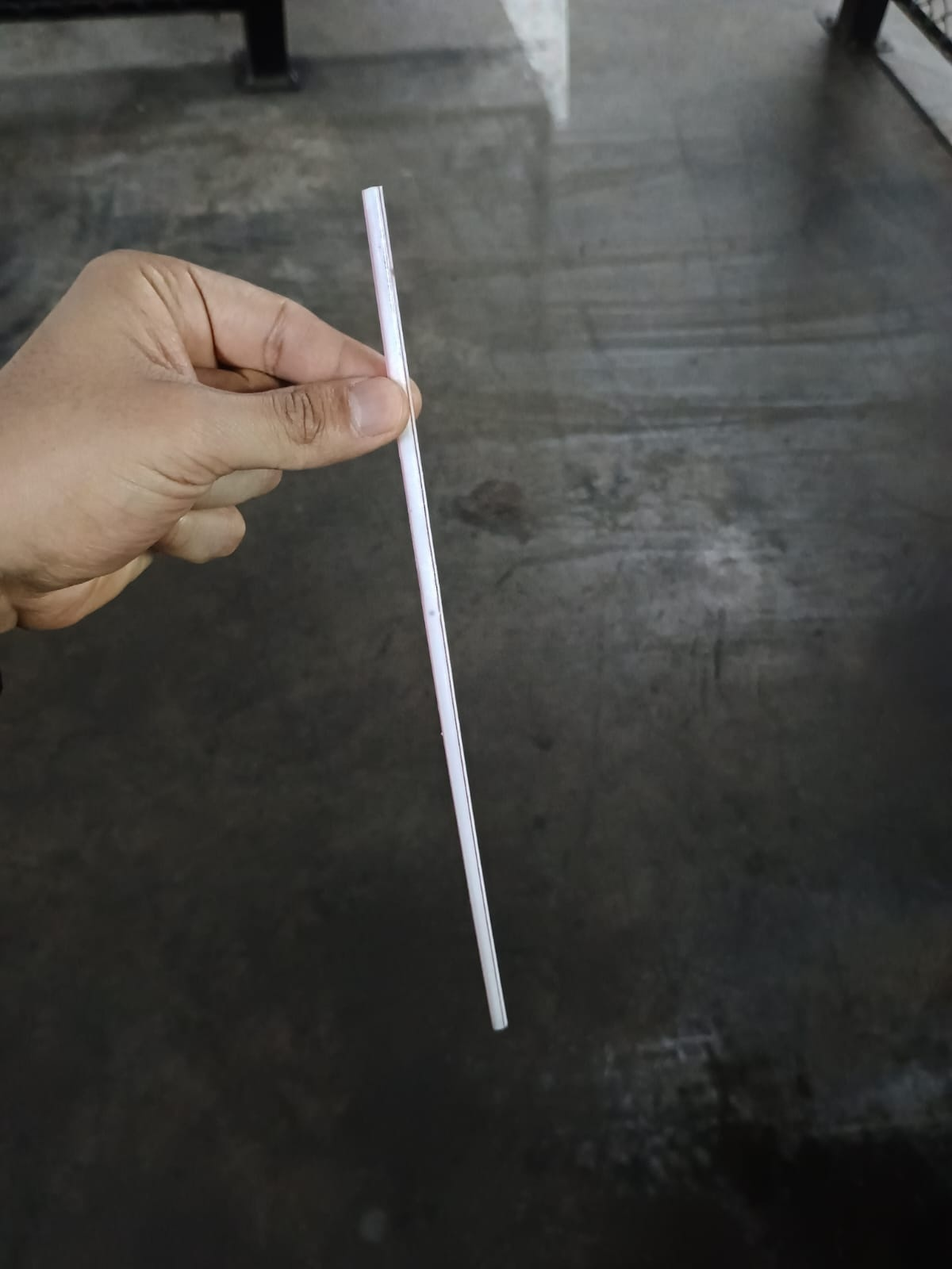Ordinario: (361, 186, 510, 1032)
